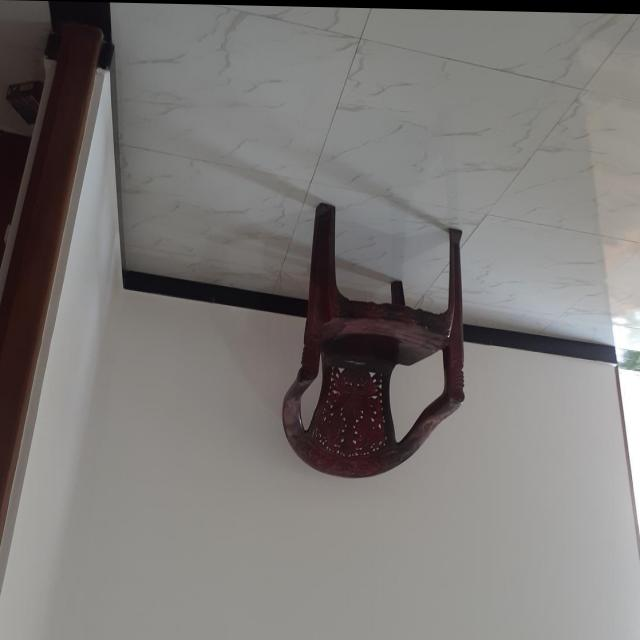Chair: (281, 199, 468, 479)
